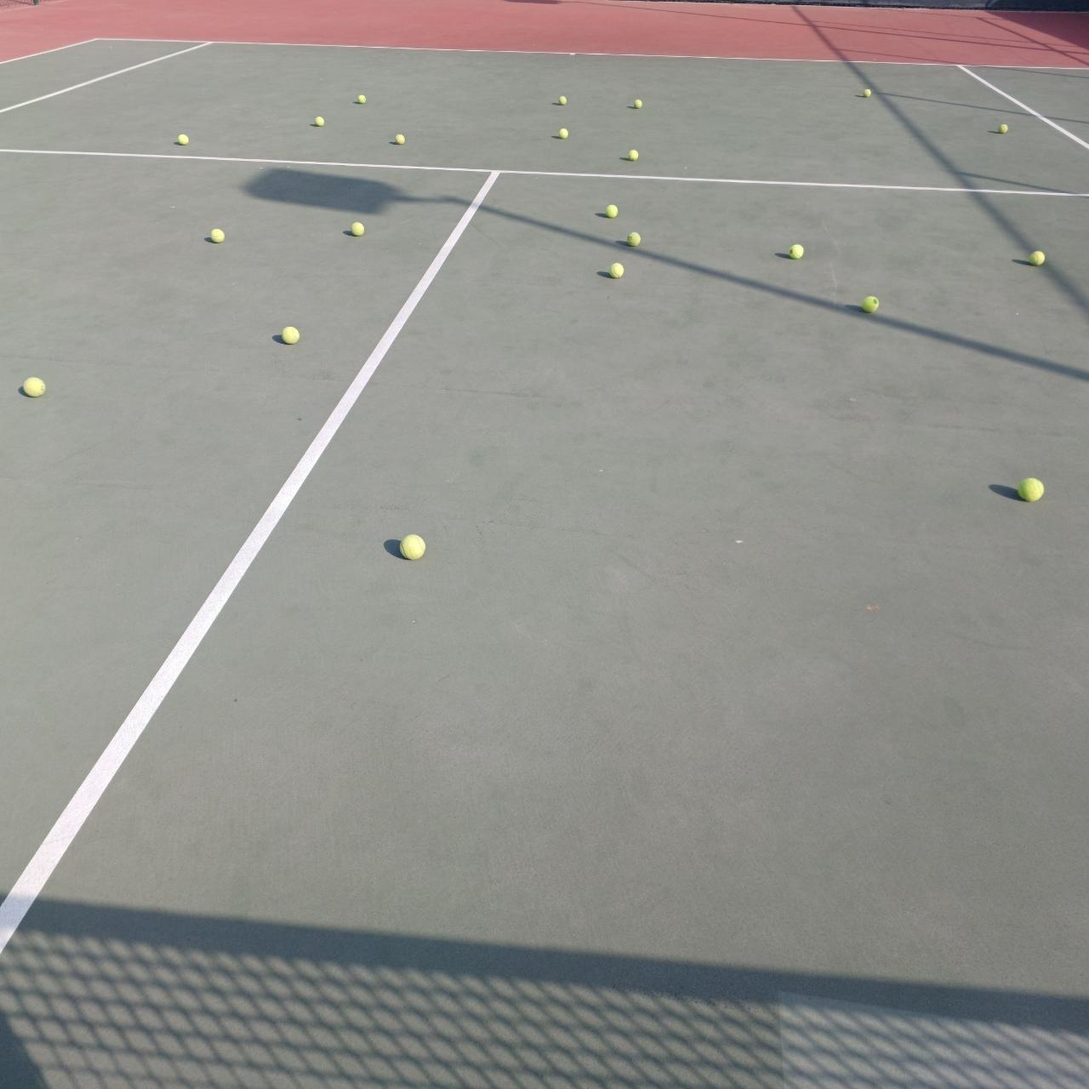tennis-ball: (398, 532, 426, 560), (1017, 475, 1044, 501), (20, 374, 46, 397), (281, 323, 299, 344), (861, 294, 879, 312), (608, 259, 624, 278), (208, 226, 225, 242), (1029, 249, 1045, 266), (789, 242, 804, 259), (349, 220, 364, 237), (626, 230, 641, 246), (605, 202, 619, 217), (627, 147, 639, 161), (394, 134, 406, 145), (178, 134, 189, 145), (315, 116, 325, 127), (633, 99, 643, 109), (998, 124, 1008, 134), (559, 128, 568, 139), (357, 95, 367, 104), (558, 96, 567, 105), (863, 89, 872, 98)
